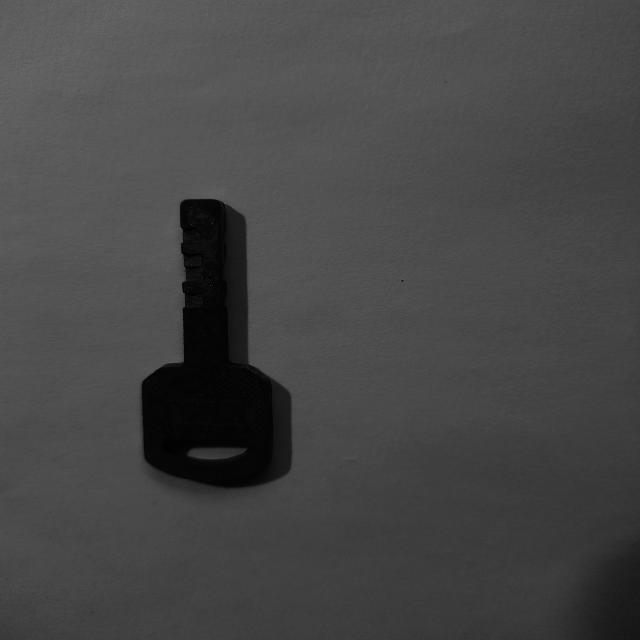KEY: (141, 200, 272, 484)
